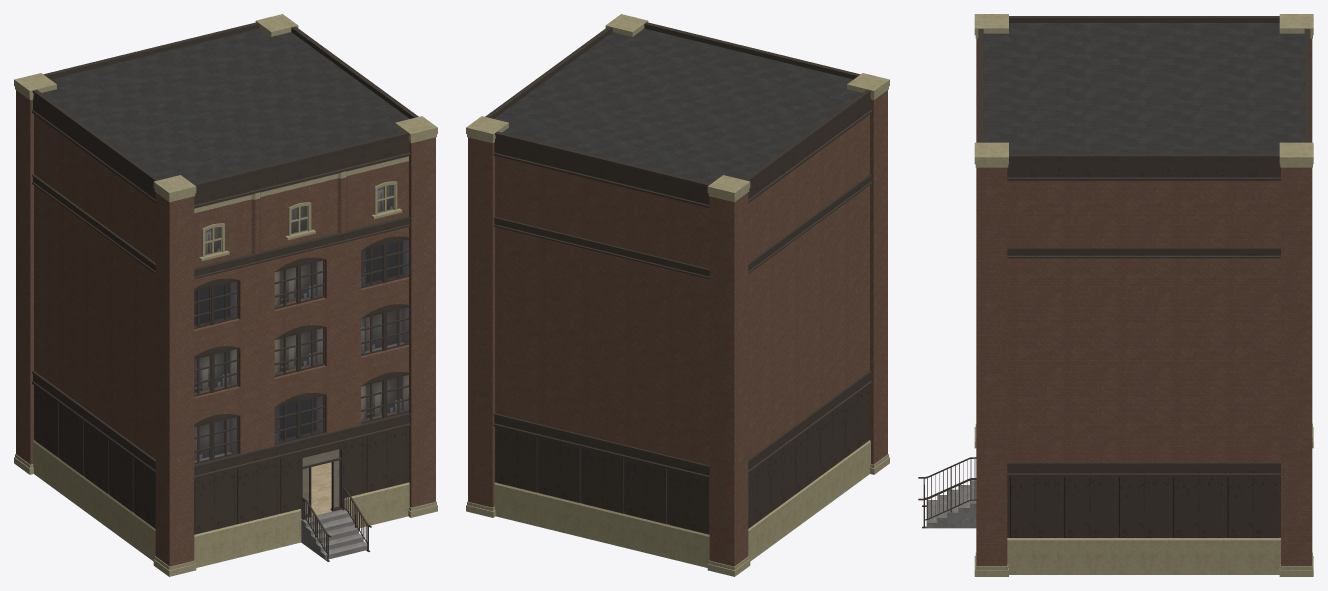
Rendered from dt-small.glb.
3 renders of one model, left to right at view 1: azimuth 30°, elevation 25°; view 2: azimuth 150°, elevation 25°; view 3: azimuth 270°, elevation 25°, orthographic. The views are drawn at different scales.
Parts seen in each view (by area): view 1: Building_Small_1; view 2: Building_Small_1; view 3: Building_Small_1.
Boxes of the visible parts, <box> form: Building_Small_1: <box>14,14,437,576</box>; Building_Small_1: <box>466,14,889,576</box>; Building_Small_1: <box>918,14,1313,576</box>.
Size of the model in its own units: 12.46 by 17.03 by 14.54.
Materials: 10 (9 with a texture image).
